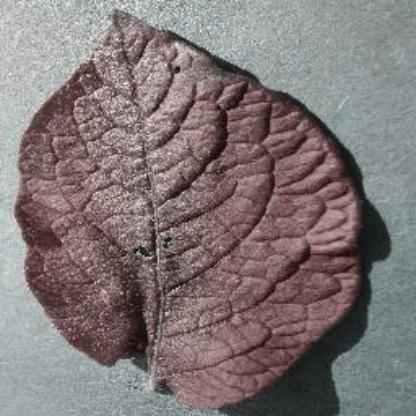Healthy-plant: (10, 11, 400, 409)
